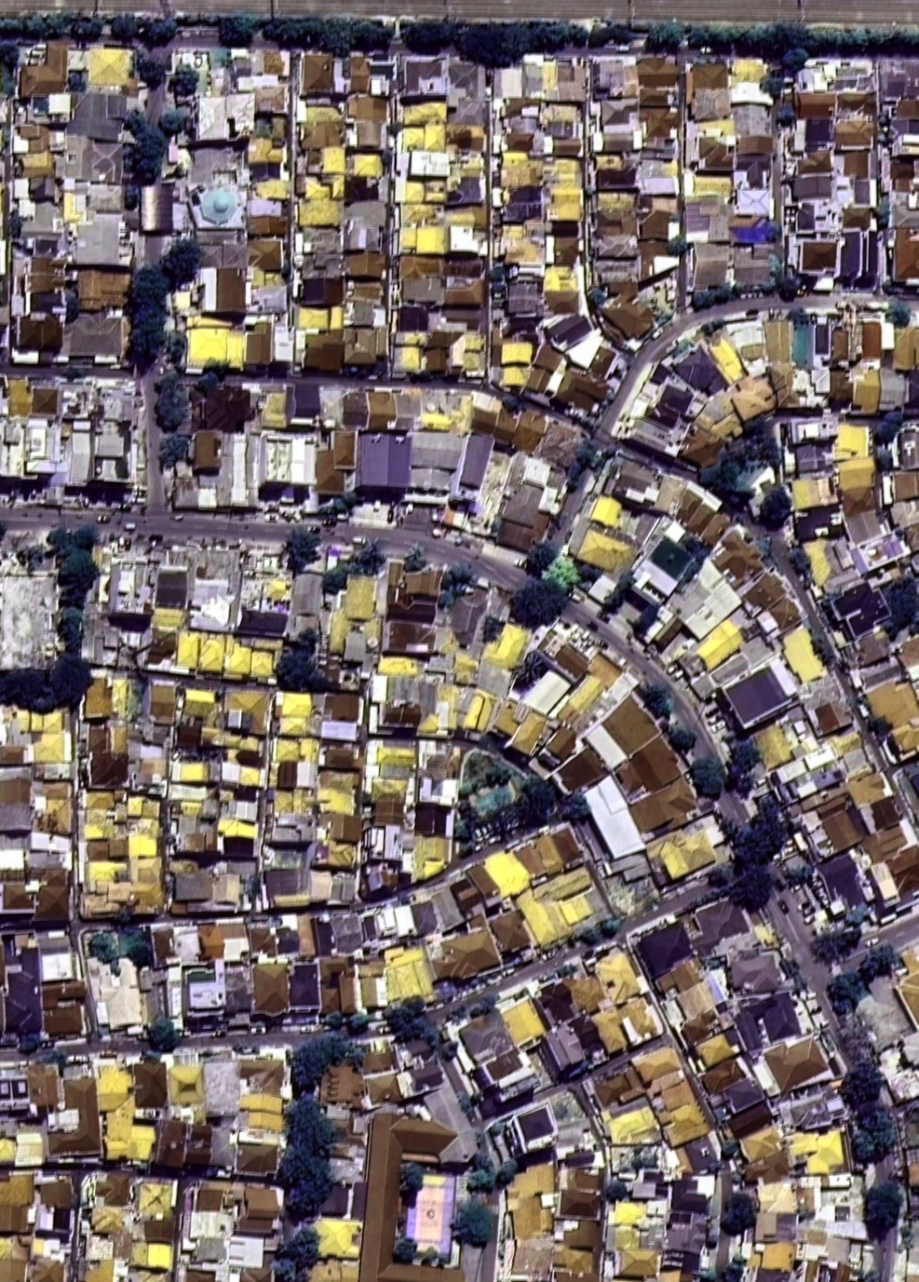building: (358, 1110, 465, 1281), (75, 786, 167, 917), (75, 1169, 181, 1282), (75, 786, 166, 917), (78, 787, 166, 917), (80, 789, 165, 917), (80, 790, 165, 917), (80, 791, 165, 917), (615, 355, 710, 460), (511, 861, 611, 951), (668, 381, 759, 474), (404, 1075, 492, 1171), (170, 427, 265, 513), (661, 557, 746, 641), (93, 1059, 156, 1163), (0, 567, 64, 668), (577, 772, 647, 863), (747, 1028, 833, 1100), (769, 735, 856, 806), (521, 1084, 598, 1164), (715, 660, 795, 732), (662, 476, 739, 549), (846, 973, 917, 1052), (611, 732, 687, 805), (728, 984, 805, 1056), (508, 819, 587, 889), (738, 566, 810, 642), (642, 818, 721, 887), (661, 1174, 715, 1274), (678, 887, 754, 957), (435, 577, 508, 649), (821, 575, 895, 645), (94, 552, 158, 632), (626, 774, 703, 840), (829, 419, 882, 514), (85, 952, 145, 1033), (409, 382, 497, 437), (801, 789, 870, 859), (446, 1004, 517, 1072), (805, 848, 873, 919), (130, 1176, 181, 1270), (148, 918, 250, 965), (750, 706, 822, 772), (772, 1079, 850, 1139), (602, 453, 675, 516), (704, 525, 771, 593), (630, 915, 699, 981), (503, 1161, 560, 1240), (809, 1170, 868, 1245), (597, 691, 663, 758), (427, 925, 503, 983), (502, 53, 590, 103), (357, 814, 428, 875), (1, 932, 43, 1035), (595, 284, 661, 349), (48, 1075, 101, 1155), (567, 522, 640, 579), (509, 657, 573, 721), (513, 881, 573, 949), (237, 568, 295, 637), (546, 742, 610, 804), (597, 1095, 663, 1155), (589, 943, 649, 1008), (218, 1179, 283, 1238), (480, 1053, 545, 1112), (55, 132, 127, 185), (0, 1061, 62, 1122), (551, 669, 611, 732), (498, 1099, 562, 1158), (66, 84, 130, 143), (533, 626, 594, 685), (0, 417, 62, 475), (670, 343, 728, 405), (722, 943, 787, 998), (538, 298, 598, 356), (689, 615, 750, 672), (785, 1126, 851, 1178), (862, 673, 919, 733), (530, 415, 587, 474), (25, 851, 73, 921), (489, 401, 550, 456), (461, 389, 523, 443), (363, 897, 439, 941), (776, 624, 829, 687), (622, 553, 680, 610), (480, 842, 536, 901), (356, 431, 412, 489), (552, 362, 612, 416), (585, 1061, 647, 1113), (70, 213, 133, 264), (848, 525, 911, 575), (480, 616, 534, 674), (313, 426, 358, 495), (61, 310, 128, 356), (382, 944, 436, 1001), (261, 433, 319, 486), (707, 1072, 767, 1123), (879, 1026, 918, 1102), (700, 327, 751, 385), (83, 721, 129, 785), (720, 304, 774, 358), (191, 384, 253, 431), (405, 425, 467, 472), (656, 1098, 713, 1149), (193, 92, 254, 139), (531, 975, 583, 1030), (457, 685, 509, 740), (368, 669, 437, 710), (858, 817, 914, 867), (719, 1096, 777, 1144), (80, 672, 133, 724), (192, 179, 246, 230), (685, 118, 736, 172), (498, 991, 548, 1046), (613, 991, 663, 1046), (837, 229, 883, 288), (675, 1130, 728, 1181), (752, 1181, 797, 1241), (128, 721, 168, 788), (470, 1045, 527, 1092), (17, 43, 68, 95), (534, 721, 584, 774), (849, 651, 905, 698), (35, 1172, 76, 1235), (454, 430, 495, 493), (393, 1055, 449, 1101), (739, 1147, 796, 1192), (563, 965, 612, 1017), (540, 1019, 589, 1071), (638, 603, 687, 655), (630, 1038, 684, 1085), (319, 955, 361, 1015), (187, 325, 247, 367), (42, 978, 86, 1035), (581, 720, 629, 772), (671, 975, 723, 1023), (497, 477, 546, 527), (486, 905, 534, 956), (789, 500, 845, 543), (297, 175, 345, 225), (750, 720, 797, 771), (495, 180, 547, 226), (74, 268, 130, 310), (563, 326, 613, 373), (220, 687, 271, 733), (688, 1027, 740, 1072), (730, 242, 782, 287), (844, 625, 896, 670), (683, 194, 732, 241), (197, 266, 247, 312), (806, 694, 856, 740), (33, 779, 74, 835), (188, 145, 244, 186), (697, 1053, 748, 1098), (414, 737, 465, 782), (735, 1121, 787, 1165), (653, 956, 706, 999), (540, 102, 583, 155), (801, 534, 843, 588), (795, 669, 845, 714), (842, 765, 893, 809), (203, 1055, 241, 1114), (674, 1005, 725, 1048), (508, 706, 551, 757), (690, 240, 733, 291), (366, 737, 418, 779), (318, 1062, 367, 1106), (251, 960, 290, 1015), (34, 780, 73, 835), (590, 1004, 632, 1055), (128, 1057, 169, 1109), (423, 883, 466, 932), (0, 1172, 35, 1232), (13, 310, 64, 351), (787, 471, 839, 511), (381, 618, 437, 655), (590, 53, 638, 96), (424, 883, 466, 932), (542, 263, 583, 313), (323, 1096, 363, 1147), (764, 588, 807, 635), (789, 437, 836, 480), (637, 56, 679, 104), (649, 1077, 698, 1118), (489, 516, 540, 555), (299, 104, 344, 148), (842, 505, 890, 545), (883, 842, 919, 895), (277, 913, 321, 956), (510, 1237, 553, 1281), (301, 329, 345, 372), (501, 276, 545, 319), (639, 103, 682, 147), (87, 45, 132, 87), (152, 1116, 189, 1167), (35, 868, 72, 919), (488, 697, 529, 743), (197, 230, 249, 266), (401, 55, 449, 94), (276, 691, 319, 734), (635, 234, 679, 276), (328, 1146, 373, 1187), (343, 325, 388, 366), (315, 1217, 361, 1257), (238, 1090, 284, 1130), (470, 658, 516, 698), (412, 833, 452, 879), (895, 948, 918, 1028), (783, 412, 840, 444), (316, 384, 357, 428), (465, 859, 505, 904), (21, 199, 66, 239), (139, 182, 174, 233), (733, 148, 774, 191), (583, 648, 625, 689), (245, 136, 286, 178), (238, 1056, 284, 1093), (557, 1214, 603, 1251), (594, 255, 641, 291), (587, 490, 629, 530), (328, 910, 366, 954), (499, 149, 543, 187), (448, 56, 485, 101), (216, 758, 268, 790), (637, 155, 679, 194), (340, 576, 377, 620), (272, 733, 321, 766), (879, 57, 918, 98), (82, 674, 116, 721), (447, 331, 485, 373), (594, 152, 637, 189), (85, 750, 129, 786), (235, 1140, 280, 1175), (315, 837, 360, 872), (92, 1169, 133, 1207), (412, 801, 455, 837), (170, 868, 214, 903), (890, 226, 918, 281), (238, 607, 289, 637), (264, 600, 304, 638), (237, 1103, 286, 1134), (318, 810, 364, 843), (867, 857, 900, 903), (143, 627, 180, 668), (190, 592, 232, 628), (256, 386, 292, 428), (82, 1238, 117, 1281), (837, 227, 867, 277), (688, 86, 732, 120), (289, 961, 320, 1009), (398, 225, 451, 253), (866, 793, 905, 831), (603, 668, 640, 708), (736, 380, 776, 417), (168, 1064, 204, 1105), (556, 1187, 602, 1219), (685, 58, 731, 90), (43, 1000, 85, 1035), (389, 388, 424, 430), (322, 609, 353, 656), (407, 462, 454, 493), (137, 1179, 175, 1217), (671, 1177, 710, 1214), (319, 1178, 354, 1219), (0, 1235, 31, 1281), (830, 60, 876, 91), (730, 102, 773, 135), (263, 867, 310, 897), (363, 1070, 403, 1105), (898, 1146, 918, 1216), (298, 194, 343, 225), (240, 1184, 281, 1218), (638, 207, 679, 241), (798, 238, 839, 272), (146, 681, 179, 723), (273, 734, 319, 764), (224, 965, 253, 1012), (301, 53, 334, 94), (156, 566, 189, 607), (345, 117, 388, 148), (28, 256, 66, 291), (226, 1234, 265, 1268), (29, 1235, 68, 1269), (340, 625, 374, 664), (361, 859, 401, 892), (767, 361, 797, 405), (126, 1122, 158, 1163), (40, 949, 81, 981), (196, 632, 228, 673), (16, 148, 57, 180), (615, 1248, 660, 1277), (244, 320, 273, 365), (299, 276, 344, 305), (764, 317, 793, 362), (291, 571, 322, 613), (433, 682, 460, 730), (751, 1241, 797, 1269), (789, 172, 835, 200), (552, 1244, 596, 1273), (300, 249, 344, 278), (598, 123, 642, 152), (644, 1066, 686, 1096), (417, 775, 459, 805), (37, 1173, 74, 1207), (210, 871, 247, 905), (181, 686, 219, 719), (33, 730, 71, 763), (315, 785, 358, 814), (344, 249, 387, 278), (185, 1210, 231, 1237), (891, 422, 918, 468), (757, 1181, 797, 1212), (322, 690, 362, 721), (890, 717, 918, 761), (67, 431, 92, 480), (730, 218, 779, 243), (587, 342, 620, 379), (0, 421, 23, 474), (835, 117, 877, 146), (558, 1165, 603, 1192), (891, 325, 918, 370), (185, 1122, 213, 1165), (163, 965, 183, 1025), (376, 652, 424, 677), (387, 599, 437, 623), (367, 389, 397, 429), (592, 232, 638, 258), (29, 383, 63, 418), (444, 276, 485, 305), (852, 369, 881, 410), (223, 640, 254, 678), (86, 182, 124, 213), (210, 1125, 238, 1167), (368, 775, 410, 803), (445, 123, 487, 151), (687, 172, 734, 197), (400, 276, 445, 302), (792, 91, 837, 117), (16, 710, 69, 732), (344, 299, 387, 326), (595, 207, 638, 234), (791, 148, 834, 175), (402, 567, 442, 596), (296, 305, 344, 329), (547, 187, 583, 219), (276, 759, 317, 787), (189, 430, 220, 467), (887, 154, 918, 191), (802, 741, 839, 772), (798, 1260, 852, 1281), (346, 94, 388, 121), (880, 367, 907, 409), (3, 377, 32, 416), (639, 209, 678, 238), (819, 1233, 854, 1265), (0, 882, 35, 914), (730, 79, 773, 105), (358, 972, 388, 1009), (173, 630, 203, 667), (504, 236, 545, 263), (398, 254, 444, 278), (402, 124, 446, 149), (273, 788, 315, 814), (345, 199, 387, 225), (599, 96, 638, 124), (15, 1131, 47, 1165), (888, 467, 919, 502), (402, 100, 447, 124), (200, 723, 243, 748), (735, 186, 772, 215), (828, 729, 865, 758), (29, 288, 67, 316), (687, 669, 720, 701), (523, 361, 554, 395), (346, 151, 385, 178), (448, 97, 487, 124), (308, 1260, 358, 1281), (95, 421, 125, 456), (301, 226, 343, 251), (450, 650, 480, 685), (409, 149, 449, 175), (317, 767, 360, 791), (379, 702, 422, 726), (803, 1260, 852, 1281), (189, 1235, 227, 1262), (520, 455, 553, 486), (248, 238, 282, 268), (150, 605, 189, 631), (321, 744, 363, 768), (344, 175, 380, 203), (27, 1256, 67, 1281), (448, 175, 485, 202), (317, 718, 360, 741), (792, 323, 815, 366), (248, 647, 277, 681), (292, 383, 321, 417), (89, 1205, 124, 1233), (836, 149, 871, 177), (247, 137, 286, 162), (370, 798, 406, 825), (444, 204, 488, 226), (188, 981, 225, 1007), (360, 1047, 397, 1073), (249, 285, 286, 311), (342, 390, 368, 427), (804, 117, 835, 148), (329, 871, 359, 903), (837, 90, 877, 114), (16, 123, 50, 151), (498, 363, 532, 391), (603, 277, 641, 302), (29, 830, 72, 852), (493, 65, 522, 97), (93, 456, 130, 481), (500, 339, 537, 364), (141, 1215, 175, 1242), (346, 54, 370, 92), (827, 367, 853, 402), (892, 1246, 918, 1281), (399, 201, 440, 223), (797, 60, 827, 90), (170, 759, 209, 782), (0, 803, 33, 830), (344, 225, 381, 249), (391, 902, 417, 936), (255, 85, 289, 111), (247, 214, 289, 235), (731, 57, 766, 82), (270, 824, 316, 843), (0, 736, 30, 765), (132, 856, 163, 884), (537, 484, 565, 515), (502, 96, 541, 118), (227, 730, 264, 753), (199, 924, 224, 958), (795, 1184, 820, 1218), (889, 499, 918, 528), (612, 1200, 647, 1224), (218, 817, 258, 838), (397, 305, 428, 332), (346, 280, 384, 302), (860, 320, 882, 358), (0, 777, 32, 803), (168, 782, 209, 802), (179, 797, 220, 817), (393, 345, 423, 372), (101, 395, 132, 421), (448, 225, 479, 251), (86, 861, 127, 880), (309, 869, 333, 901), (248, 926, 275, 954), (394, 177, 424, 202), (194, 1186, 225, 1210), (226, 798, 258, 821), (208, 60, 231, 92), (830, 326, 851, 361), (554, 236, 580, 264), (444, 257, 482, 276), (248, 195, 282, 216), (453, 152, 484, 175), (173, 814, 212, 832), (422, 346, 449, 372), (898, 1030, 918, 1065), (276, 925, 300, 954), (889, 117, 918, 141), (842, 206, 873, 228), (28, 176, 55, 201), (321, 146, 346, 173), (263, 49, 289, 74), (614, 1224, 641, 1248), (230, 48, 253, 76), (224, 835, 254, 856), (697, 119, 734, 136), (821, 1171, 854, 1190), (175, 722, 201, 746), (423, 330, 462, 346), (747, 1267, 791, 1281), (129, 834, 157, 856), (630, 1180, 666, 1197), (235, 746, 264, 767), (62, 389, 87, 413), (194, 577, 229, 594), (853, 178, 875, 205), (795, 202, 816, 230), (891, 204, 918, 225), (505, 131, 533, 151), (128, 1268, 171, 1281), (277, 760, 297, 787), (502, 1110, 524, 1134), (239, 1266, 273, 1281), (797, 1242, 827, 1259), (232, 785, 261, 802), (811, 366, 829, 393), (0, 848, 24, 868), (225, 860, 258, 874), (800, 1228, 828, 1244), (184, 1267, 215, 1281), (0, 1137, 16, 1163), (500, 223, 526, 238), (45, 927, 68, 943), (466, 332, 485, 351), (395, 390, 404, 414), (523, 1140, 535, 1152), (103, 643, 117, 651), (738, 136, 772, 139), (357, 391, 365, 401), (423, 358, 430, 369), (425, 333, 433, 340), (396, 361, 403, 368)
tree: (713, 793, 804, 880), (271, 1137, 340, 1224), (503, 566, 575, 639), (694, 443, 766, 512), (277, 1089, 341, 1163), (42, 645, 100, 713), (832, 1055, 895, 1117), (722, 855, 782, 917), (0, 661, 62, 719), (730, 413, 787, 475), (846, 1103, 901, 1166), (453, 18, 522, 67), (124, 299, 173, 368), (155, 231, 208, 294), (124, 123, 174, 188), (277, 1219, 333, 1276), (309, 1026, 368, 1075), (270, 641, 322, 695), (528, 5, 580, 57), (832, 1013, 881, 1066), (449, 1195, 497, 1249), (809, 922, 866, 965), (822, 965, 872, 1014), (635, 674, 681, 727), (262, 6, 320, 48), (881, 573, 918, 638), (564, 434, 604, 494), (283, 1040, 330, 1091), (459, 1150, 507, 1199), (460, 749, 512, 794), (717, 1188, 762, 1240), (383, 997, 432, 1044), (865, 1179, 904, 1236), (345, 537, 392, 584), (483, 793, 531, 839), (154, 370, 189, 432), (500, 13, 545, 60), (518, 534, 563, 581), (128, 264, 170, 314), (401, 18, 459, 54), (119, 929, 164, 975), (855, 941, 905, 982), (543, 550, 588, 594), (57, 546, 98, 594), (659, 714, 703, 758), (312, 13, 357, 56), (598, 575, 639, 622), (142, 1011, 184, 1056), (213, 11, 264, 46), (686, 278, 738, 312), (521, 776, 557, 825), (510, 649, 551, 692), (869, 404, 910, 447), (748, 528, 786, 574), (784, 540, 819, 589), (437, 564, 472, 611), (153, 101, 194, 141), (727, 738, 761, 785), (689, 756, 727, 798), (58, 593, 85, 648), (284, 529, 321, 569), (702, 20, 743, 56), (758, 486, 792, 529), (156, 429, 192, 469), (350, 18, 393, 51), (784, 302, 819, 341), (738, 22, 778, 56), (629, 597, 659, 642), (40, 7, 79, 40), (646, 21, 687, 52), (776, 41, 812, 76), (67, 519, 103, 554), (771, 269, 807, 304), (16, 541, 52, 575), (169, 62, 204, 96), (120, 106, 154, 141), (303, 667, 337, 700), (328, 488, 363, 520), (826, 27, 868, 53), (758, 68, 791, 101), (679, 529, 712, 562), (496, 386, 529, 419), (86, 930, 120, 962), (491, 1153, 522, 1188), (771, 23, 807, 53), (342, 1006, 375, 1038), (107, 10, 141, 41), (663, 231, 695, 263), (293, 623, 324, 656), (398, 1160, 427, 1195), (70, 15, 109, 41), (321, 558, 349, 594), (679, 551, 707, 587), (478, 613, 507, 646), (143, 16, 178, 43), (451, 809, 476, 846), (561, 793, 591, 823), (873, 438, 897, 475), (783, 861, 817, 887), (273, 1256, 308, 1281), (399, 545, 428, 575), (16, 14, 50, 39), (418, 1022, 447, 1051), (764, 256, 785, 296), (885, 299, 912, 330), (706, 862, 737, 889), (164, 328, 187, 364), (1, 208, 25, 242), (192, 367, 222, 394), (16, 1030, 46, 1057), (869, 199, 893, 232), (0, 40, 23, 73), (394, 1234, 419, 1264), (457, 1091, 480, 1123), (47, 529, 74, 556), (0, 15, 26, 43), (321, 1008, 349, 1034), (63, 286, 83, 322), (801, 26, 827, 53), (566, 21, 592, 48), (572, 925, 602, 947), (686, 24, 712, 49), (598, 914, 624, 939), (242, 876, 264, 905), (697, 1232, 722, 1257), (447, 1004, 472, 1029), (585, 283, 611, 307), (719, 1258, 746, 1281), (37, 1049, 69, 1068), (609, 22, 636, 44), (0, 67, 18, 100), (471, 993, 498, 1015), (780, 956, 802, 983), (863, 28, 893, 47), (843, 905, 870, 926), (700, 316, 726, 337), (900, 1100, 918, 1130), (424, 1248, 451, 1268), (67, 68, 89, 92), (606, 1178, 628, 1202), (578, 564, 603, 585), (124, 183, 142, 212), (487, 264, 507, 289), (895, 27, 918, 48), (775, 106, 796, 127), (556, 961, 579, 979), (721, 1140, 740, 1159), (441, 1038, 459, 1058), (487, 1122, 505, 1140), (474, 1128, 488, 1150), (140, 1051, 162, 1064), (858, 1269, 881, 1281), (698, 1268, 716, 1281)
